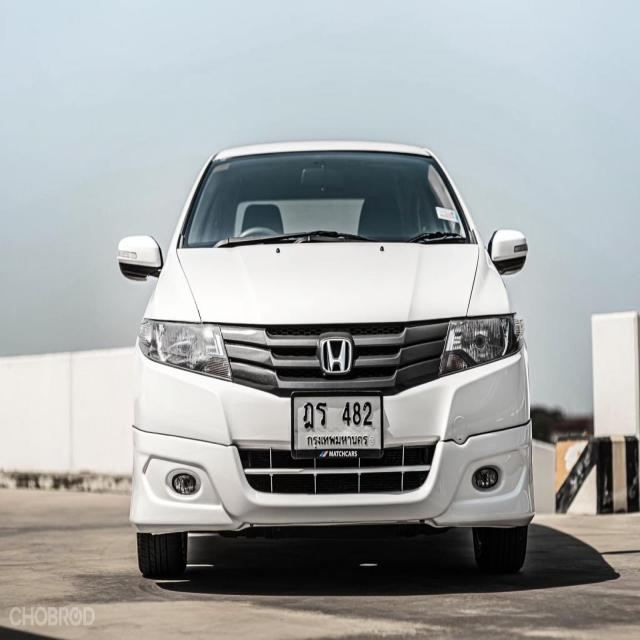license_plate: (288, 387, 386, 464)
